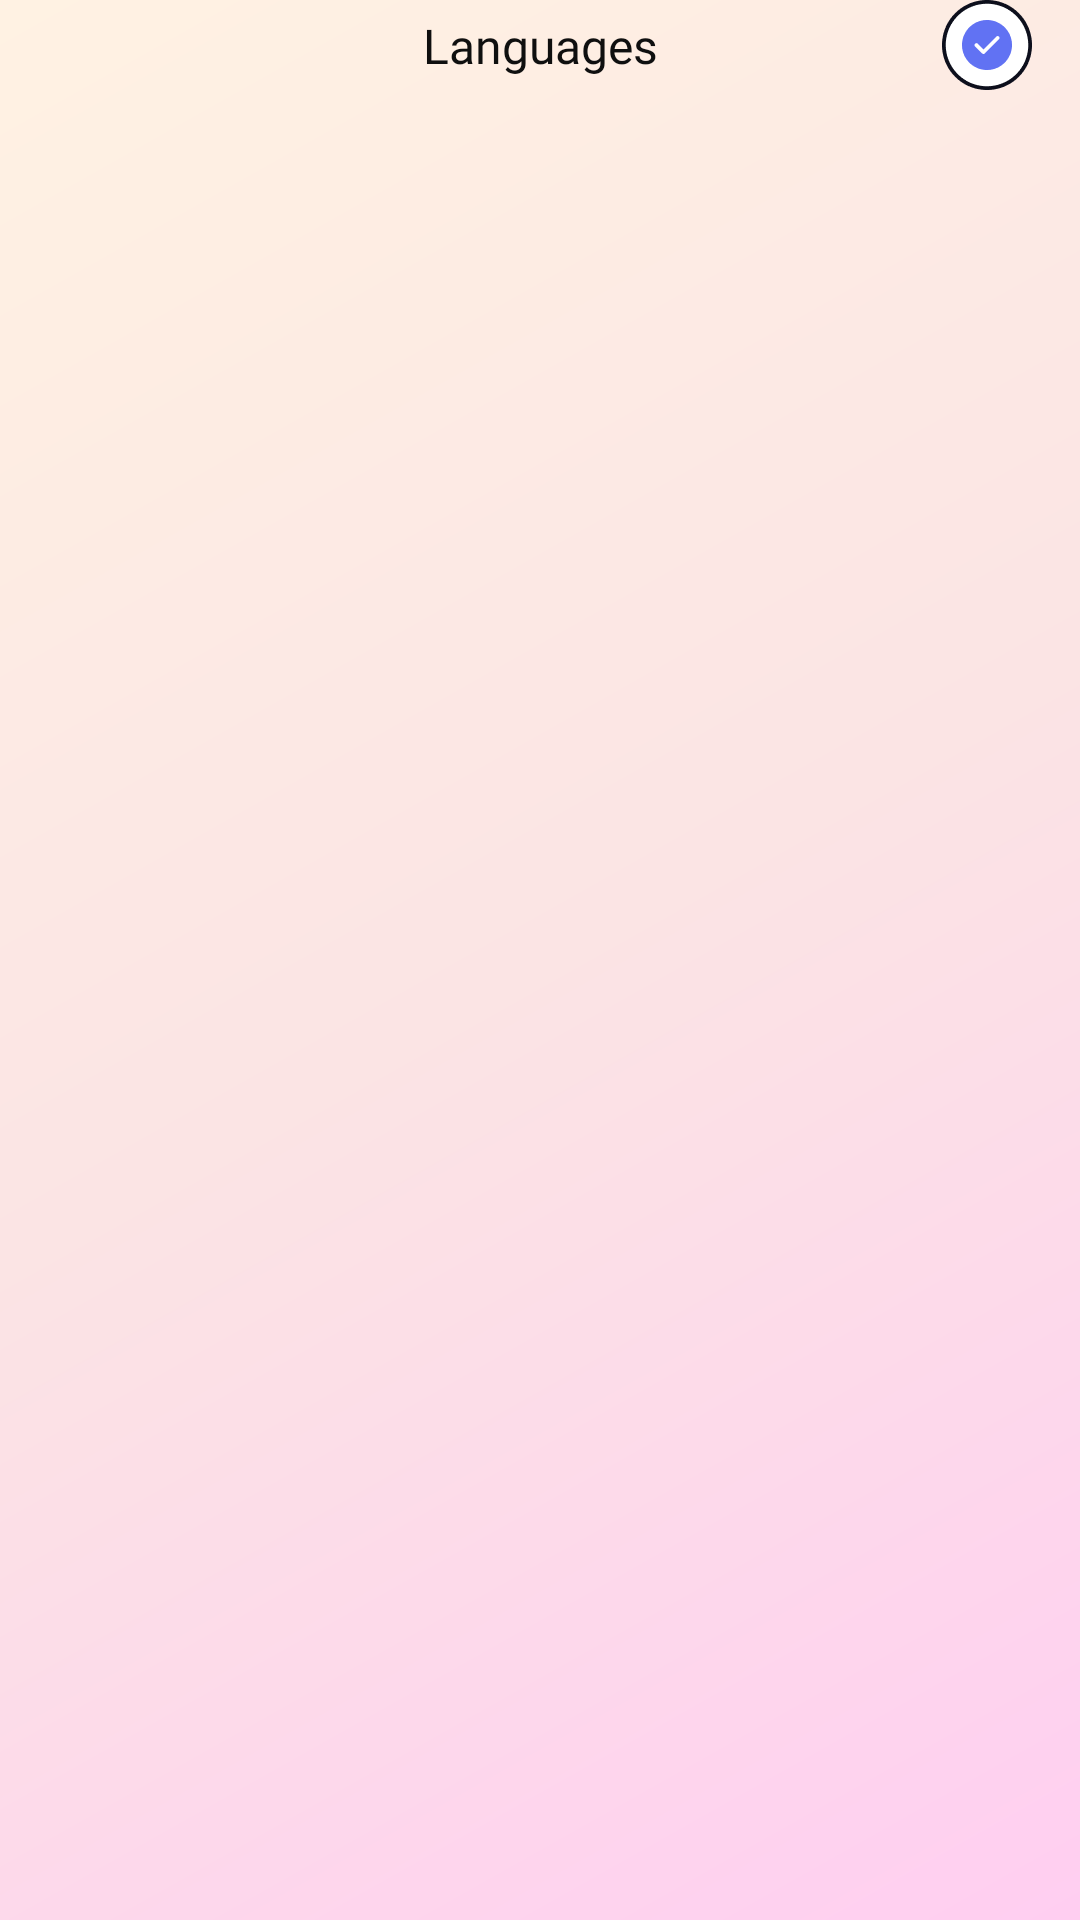

Where to tap for icons on this 1080w x 1920h app screen, as point (x, y):
save language: point (987, 45)
